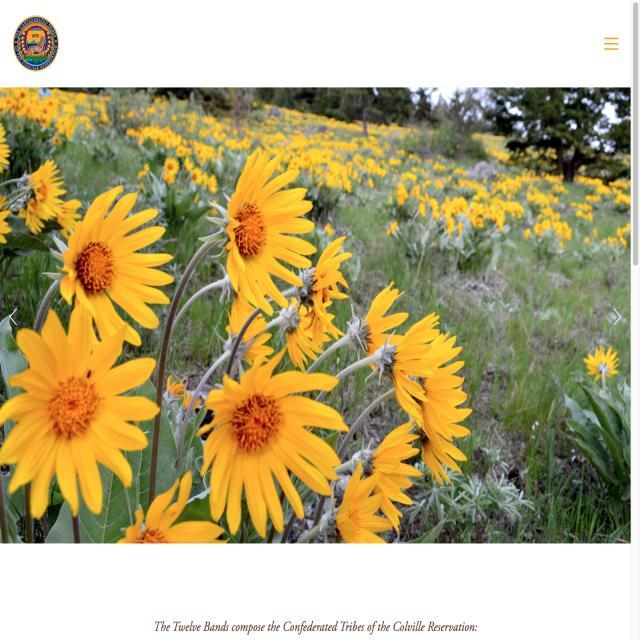image: (12, 91, 612, 546)
